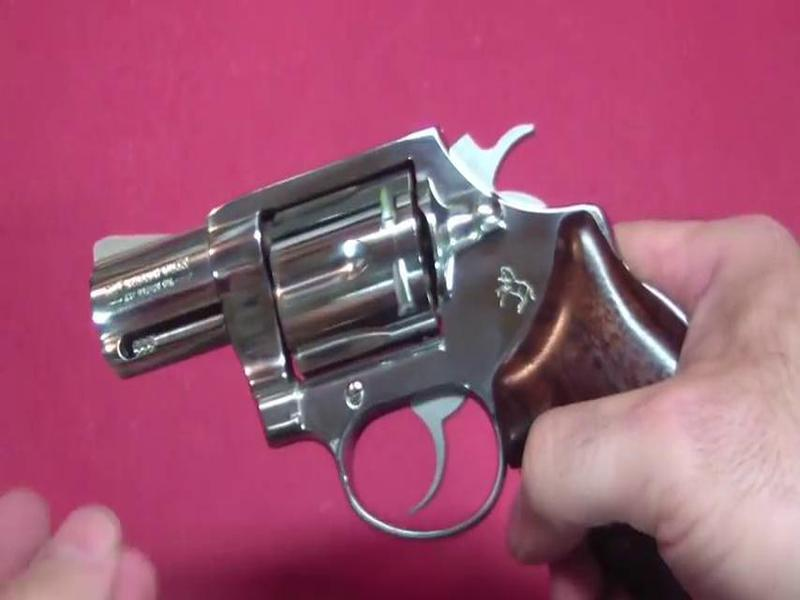Revolver: (84, 126, 686, 535)
